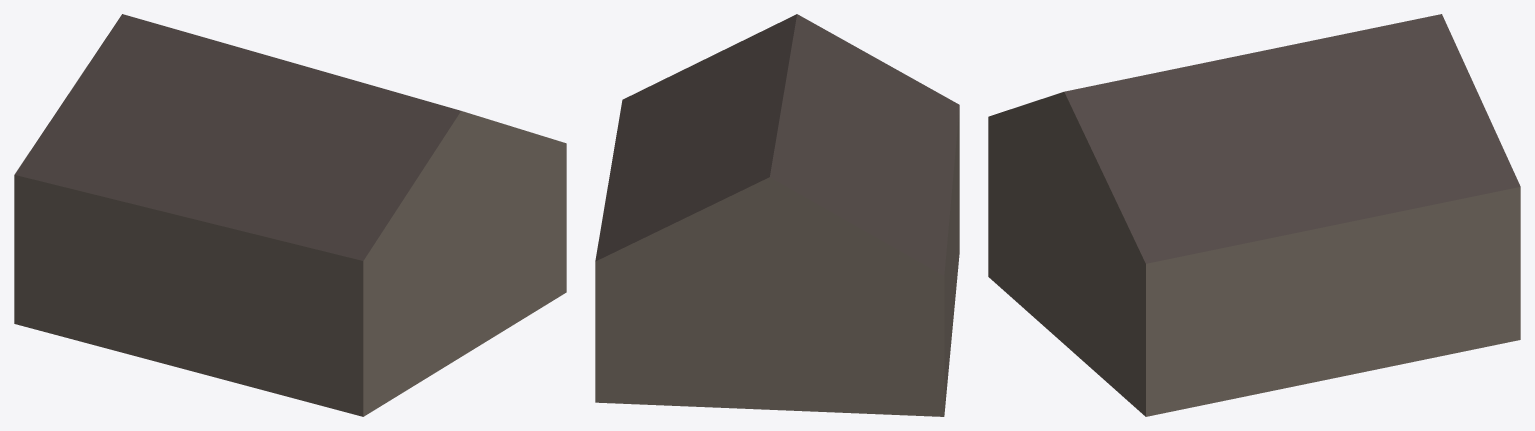
3 renders of one model, left to right at view 1: azimuth 30°, elevation 25°; view 2: azimuth 150°, elevation 25°; view 3: azimuth 270°, elevation 25°, orthographic. The views are drawn at different scales.
Visible parts, largest first — view 1: HP-w1197053247; view 2: HP-w1197053247; view 3: HP-w1197053247.
Boxes of the visible parts, x1,y1,x2,y2 form: HP-w1197053247: (14, 14, 566, 416); HP-w1197053247: (595, 14, 959, 416); HP-w1197053247: (988, 14, 1520, 416).
Bounding box in the file's own units: 18.79 × 9.9 × 18.91.
